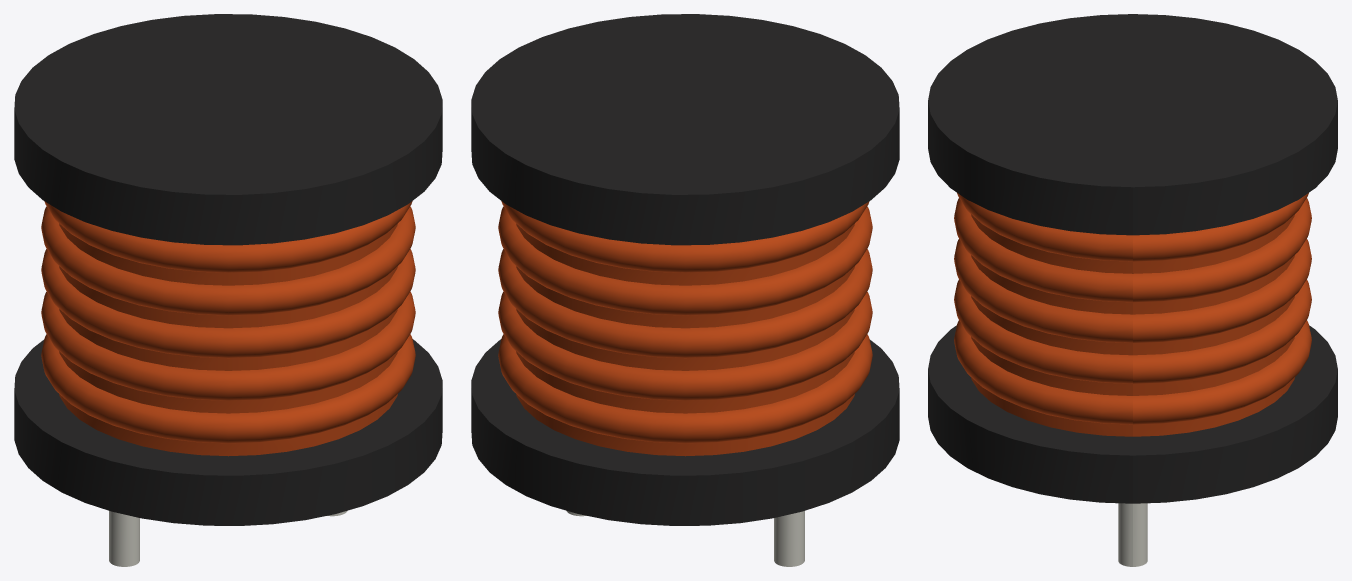
Rendered from kc-l_radial_d12.5mm_p7.00mm_fastron_09hcp.glb.
The picture shows the model from 3 angles, left to right: view 1: azimuth 30°, elevation 25°; view 2: azimuth 150°, elevation 25°; view 3: azimuth 270°, elevation 25°; orthographic projection. The views are drawn at different scales.
Parts seen in each view (by area): view 1: 0_0_0_0, 0.4166666666666667_0.08333333333333333_0_0, 0.6666666666666666_0.6666666666666666_0.5833333333333334_0.8; view 2: 0_0_0_0, 0.4166666666666667_0.08333333333333333_0_0, 0.6666666666666666_0.6666666666666666_0.5833333333333334_0.8; view 3: 0_0_0_0, 0.4166666666666667_0.08333333333333333_0_0, 0.6666666666666666_0.6666666666666666_0.5833333333333334_0.8.
Boxes of the visible parts, bbox=[...] form: 0_0_0_0: bbox=[14, 14, 442, 525]; 0.4166666666666667_0.08333333333333333_0_0: bbox=[41, 201, 415, 456]; 0.6666666666666666_0.6666666666666666_0.5833333333333334_0.8: bbox=[109, 510, 347, 566]; 0_0_0_0: bbox=[471, 14, 899, 525]; 0.4166666666666667_0.08333333333333333_0_0: bbox=[498, 201, 872, 456]; 0.6666666666666666_0.6666666666666666_0.5833333333333334_0.8: bbox=[566, 510, 804, 566]; 0_0_0_0: bbox=[928, 14, 1337, 503]; 0.4166666666666667_0.08333333333333333_0_0: bbox=[954, 193, 1311, 436]; 0.6666666666666666_0.6666666666666666_0.5833333333333334_0.8: bbox=[1118, 503, 1147, 566].
Bounding box in the file's own units: 1.25 × 1.39 × 1.25.
